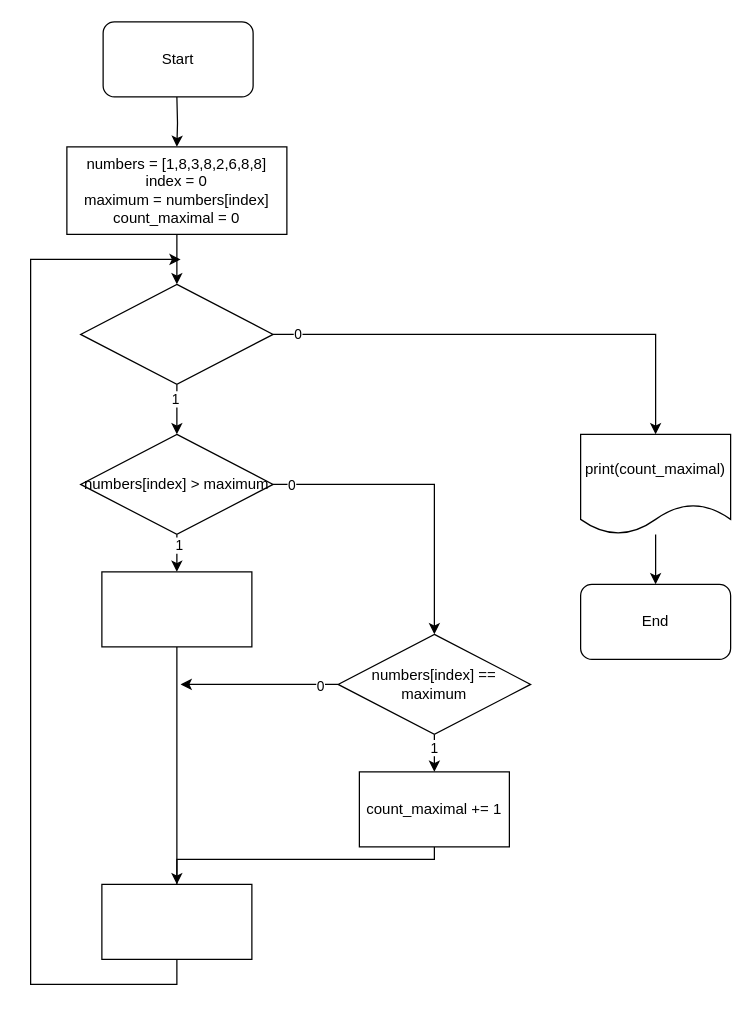
Some shapes in this 753 by 1016 pixel diagram are drawn without their labels. The centre of each missing label's shape, as x and y in pixels:
"index += 1" belongs at (176,921).
"index < numbers.length" belongs at (176,333).
"maximum = numbers[index] count_maximal = 1" belongs at (176,609).
